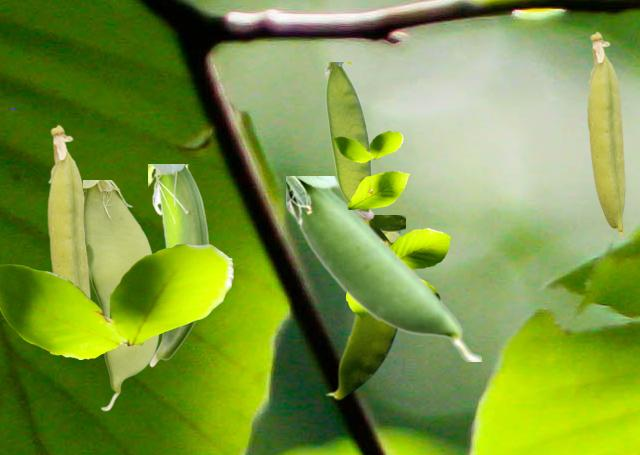pea: (286, 176, 480, 360), (83, 180, 158, 410), (325, 215, 404, 399), (148, 164, 209, 366), (587, 31, 625, 238), (325, 62, 373, 219), (47, 124, 90, 297)
